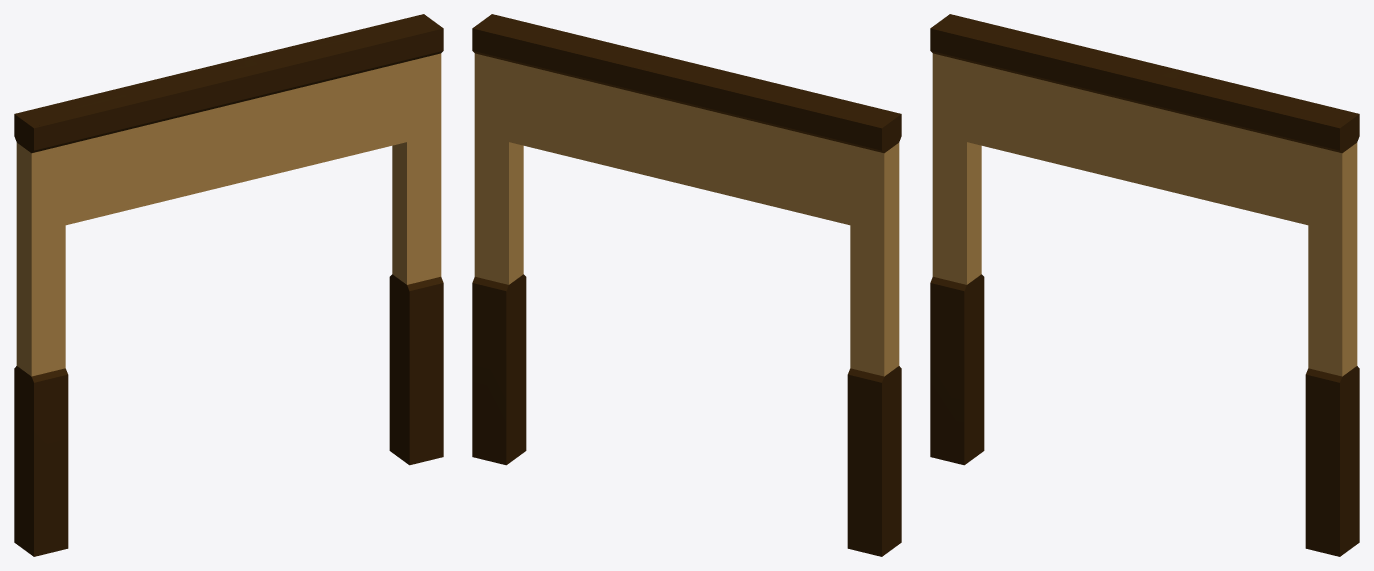
Rendered from Classic_WallDoubleDoorFrame_01_snaps001.fbx.
The picture shows the model from 3 angles, left to right: view 1: azimuth 30°, elevation 25°; view 2: azimuth 150°, elevation 25°; view 3: azimuth 330°, elevation 25°; orthographic projection.
Visible parts, largest first — view 1: Classic_WallDoubleDoorFrame_01_snaps001_frag_017_frag_007, Classic_WallDoubleDoorFrame_01_snaps001_frag_010_frag_003, Classic_WallDoubleDoorFrame_01_snaps001_frag_002_frag_012, Classic_WallDoubleDoorFrame_01_snaps001_frag_019_frag_009, Classic_WallDoubleDoorFrame_01_snaps001_frag_001_frag_001, Classic_WallDoubleDoorFrame_01_snaps001_frag_002_frag_016, Classic_WallDoubleDoorFrame_01_snaps001_frag_010_frag_014, Classic_WallDoubleDoorFrame_01_snaps001_frag_010_frag_010, Classic_WallDoubleDoorFrame_01_snaps001_frag_001_frag_005, Classic_WallDoubleDoorFrame_01_snaps001_frag_001_frag_007, Classic_WallDoubleDoorFrame_01_snaps001_frag_005_frag_018, Classic_WallDoubleDoorFrame_01_snaps001_frag_019_frag_005 (+35 smaller); view 2: Classic_WallDoubleDoorFrame_01_snaps001_frag_016_frag_007, Classic_WallDoubleDoorFrame_01_snaps001_frag_010_frag_014, Classic_WallDoubleDoorFrame_01_snaps001_frag_017_frag_007, Classic_WallDoubleDoorFrame_01_snaps001_frag_001_frag_007, Classic_WallDoubleDoorFrame_01_snaps001_frag_010_frag_003, Classic_WallDoubleDoorFrame_01_snaps001_frag_002_frag_012, Classic_WallDoubleDoorFrame_01_snaps001_frag_001_frag_004, Classic_WallDoubleDoorFrame_01_snaps001_frag_002_frag_016, Classic_WallDoubleDoorFrame_01_snaps001_frag_016_frag_003, Classic_WallDoubleDoorFrame_01_snaps001_frag_008_frag_009, Classic_WallDoubleDoorFrame_01_snaps001_frag_002_frag_014, Classic_WallDoubleDoorFrame_01_snaps001_frag_001_frag_001 (+38 smaller); view 3: Classic_WallDoubleDoorFrame_01_snaps001_frag_017_frag_007, Classic_WallDoubleDoorFrame_01_snaps001_frag_010_frag_003, Classic_WallDoubleDoorFrame_01_snaps001_frag_019_frag_009, Classic_WallDoubleDoorFrame_01_snaps001_frag_002_frag_012, Classic_WallDoubleDoorFrame_01_snaps001_frag_002_frag_014, Classic_WallDoubleDoorFrame_01_snaps001_frag_001_frag_001, Classic_WallDoubleDoorFrame_01_snaps001_frag_010_frag_014, Classic_WallDoubleDoorFrame_01_snaps001_frag_010_frag_010, Classic_WallDoubleDoorFrame_01_snaps001_frag_001_frag_009, Classic_WallDoubleDoorFrame_01_snaps001_frag_005_frag_018, Classic_WallDoubleDoorFrame_01_snaps001_frag_019_frag_005, Classic_WallDoubleDoorFrame_01_snaps001_frag_001_frag_007 (+33 smaller).
Boxes of the visible parts, box(x1,y1,x2,y2) form: Classic_WallDoubleDoorFrame_01_snaps001_frag_017_frag_007: box(357, 14, 443, 109); Classic_WallDoubleDoorFrame_01_snaps001_frag_010_frag_003: box(120, 73, 217, 172); Classic_WallDoubleDoorFrame_01_snaps001_frag_002_frag_012: box(14, 313, 68, 412); Classic_WallDoubleDoorFrame_01_snaps001_frag_019_frag_009: box(259, 119, 382, 171); Classic_WallDoubleDoorFrame_01_snaps001_frag_001_frag_001: box(389, 380, 443, 465); Classic_WallDoubleDoorFrame_01_snaps001_frag_002_frag_016: box(14, 393, 56, 498); Classic_WallDoubleDoorFrame_01_snaps001_frag_010_frag_014: box(62, 88, 141, 169); Classic_WallDoubleDoorFrame_01_snaps001_frag_010_frag_010: box(46, 127, 142, 175); Classic_WallDoubleDoorFrame_01_snaps001_frag_001_frag_005: box(396, 303, 443, 381); Classic_WallDoubleDoorFrame_01_snaps001_frag_001_frag_007: box(389, 266, 443, 361); Classic_WallDoubleDoorFrame_01_snaps001_frag_005_frag_018: box(109, 170, 186, 210); Classic_WallDoubleDoorFrame_01_snaps001_frag_019_frag_005: box(397, 169, 441, 227); Classic_WallDoubleDoorFrame_01_snaps001_frag_016_frag_007: box(474, 91, 555, 182); Classic_WallDoubleDoorFrame_01_snaps001_frag_010_frag_014: box(772, 89, 853, 175); Classic_WallDoubleDoorFrame_01_snaps001_frag_017_frag_007: box(472, 14, 568, 91); Classic_WallDoubleDoorFrame_01_snaps001_frag_001_frag_007: box(472, 273, 526, 368); Classic_WallDoubleDoorFrame_01_snaps001_frag_010_frag_003: box(709, 70, 801, 151); Classic_WallDoubleDoorFrame_01_snaps001_frag_002_frag_012: box(847, 309, 901, 406); Classic_WallDoubleDoorFrame_01_snaps001_frag_001_frag_004: box(472, 350, 524, 438); Classic_WallDoubleDoorFrame_01_snaps001_frag_002_frag_016: box(865, 398, 901, 503); Classic_WallDoubleDoorFrame_01_snaps001_frag_016_frag_003: box(546, 91, 614, 146); Classic_WallDoubleDoorFrame_01_snaps001_frag_008_frag_009: box(608, 136, 685, 183); Classic_WallDoubleDoorFrame_01_snaps001_frag_002_frag_014: box(847, 393, 880, 484); Classic_WallDoubleDoorFrame_01_snaps001_frag_001_frag_001: box(487, 367, 526, 465); Classic_WallDoubleDoorFrame_01_snaps001_frag_017_frag_007: box(1262, 97, 1359, 209); Classic_WallDoubleDoorFrame_01_snaps001_frag_010_frag_003: box(1030, 39, 1122, 132); Classic_WallDoubleDoorFrame_01_snaps001_frag_019_frag_009: box(1160, 151, 1284, 218); Classic_WallDoubleDoorFrame_01_snaps001_frag_002_frag_012: box(930, 220, 984, 317); Classic_WallDoubleDoorFrame_01_snaps001_frag_002_frag_014: box(938, 296, 984, 395); Classic_WallDoubleDoorFrame_01_snaps001_frag_001_frag_001: box(1305, 465, 1352, 556); Classic_WallDoubleDoorFrame_01_snaps001_frag_010_frag_014: box(984, 25, 1054, 123); Classic_WallDoubleDoorFrame_01_snaps001_frag_010_frag_010: box(947, 57, 1043, 126); Classic_WallDoubleDoorFrame_01_snaps001_frag_001_frag_009: box(1308, 333, 1359, 397); Classic_WallDoubleDoorFrame_01_snaps001_frag_005_frag_018: box(1011, 122, 1087, 170); Classic_WallDoubleDoorFrame_01_snaps001_frag_019_frag_005: box(1308, 265, 1352, 327); Classic_WallDoubleDoorFrame_01_snaps001_frag_001_frag_007: box(1305, 375, 1359, 452).
Size of the model in its own units: 118 by 118 by 9.84.
